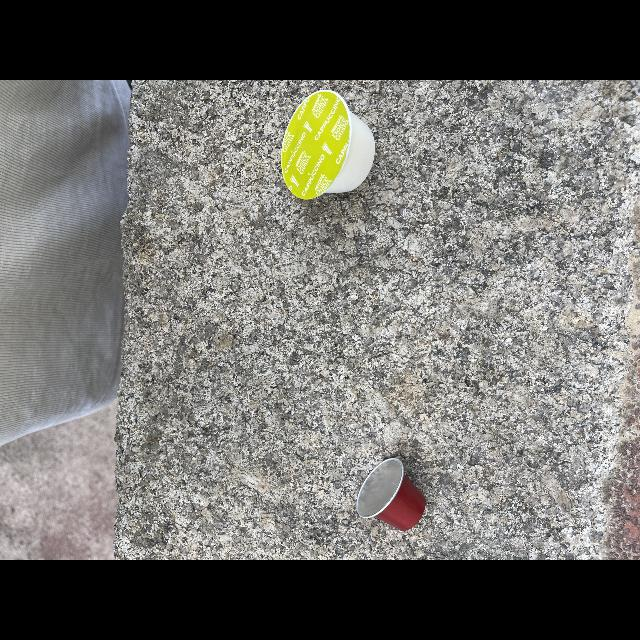intact_capsule: (276, 89, 378, 203), (354, 456, 430, 540)
